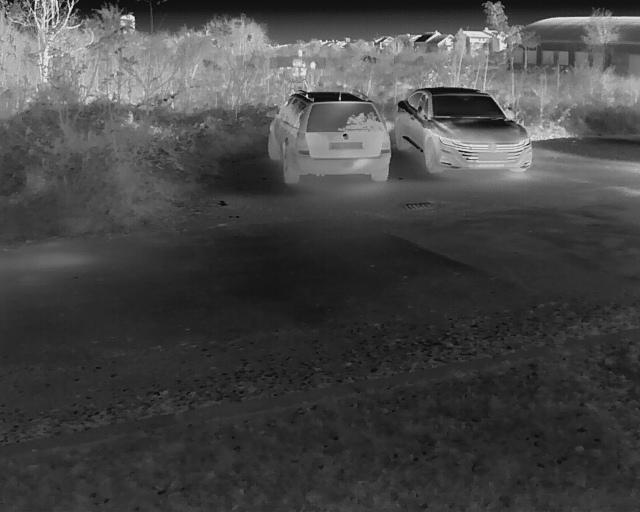drone: (255, 40, 330, 87)
